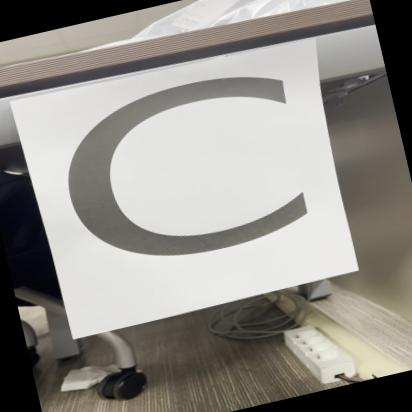seat: (15, 34, 368, 342)
